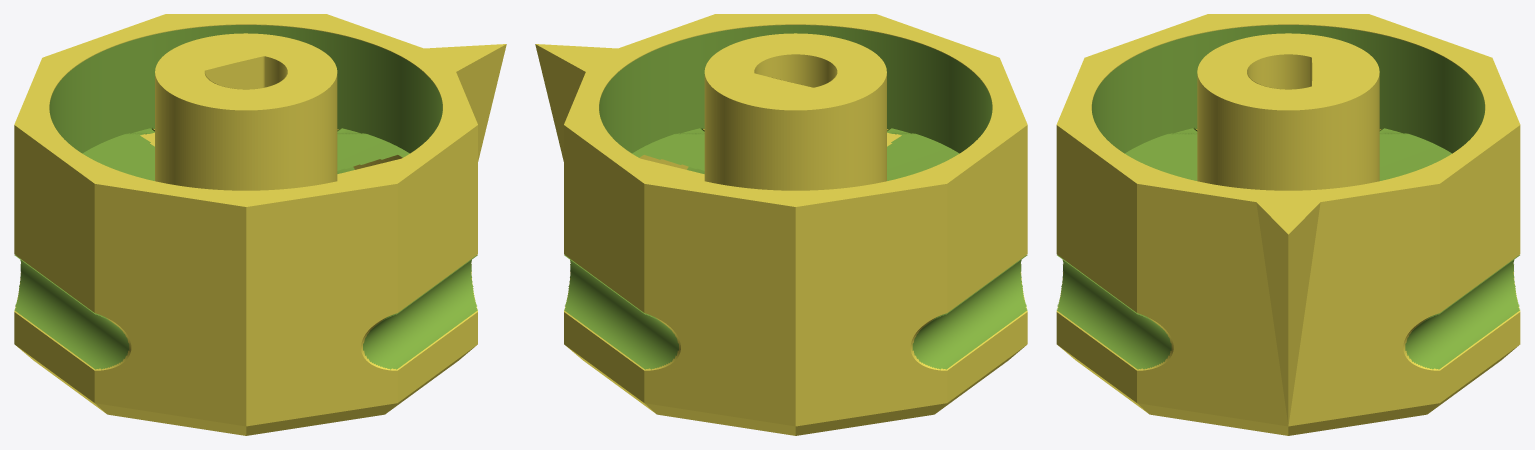
Rendered from openscad_hob-knob.glb.
3 views of the same model, side by side, from view 1: azimuth 30°, elevation 25°; view 2: azimuth 150°, elevation 25°; view 3: azimuth 270°, elevation 25° (orthographic).
Parts seen in each view (by area): view 1: object; view 2: object; view 3: object.
Boxes of the visible parts, box(x1,y1,x2,y2) form: object: box(14, 14, 506, 435); object: box(535, 14, 1027, 435); object: box(1056, 14, 1520, 435).
Bounding box in the file's own units: 39.91 × 23 × 35.47.
